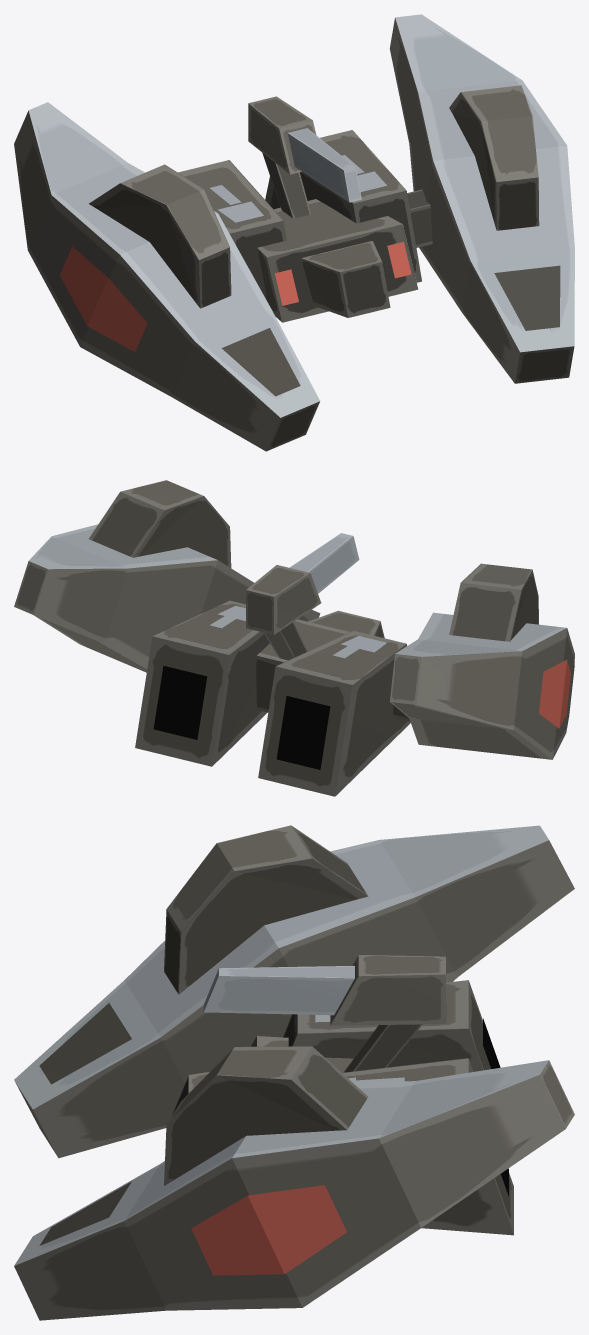
The model's file is aircraft.FBX.
3 renders of one model, top to bottom at view 1: azimuth 30°, elevation 25°; view 2: azimuth 150°, elevation 25°; view 3: azimuth 270°, elevation 25°, orthographic. The views are drawn at different scales.
Parts seen in each view (by area): view 1: a, aircraft; view 2: a, aircraft; view 3: a, aircraft.
Boxes of the visible parts, x1,y1,x2,y2 form: a: (14, 14, 574, 451); aircraft: (178, 96, 432, 322); a: (14, 480, 574, 759); aircraft: (135, 533, 410, 796); a: (14, 825, 574, 1320); aircraft: (172, 955, 513, 1235).
Size of the model in its own units: 80.01 by 61.58 by 33.25.
